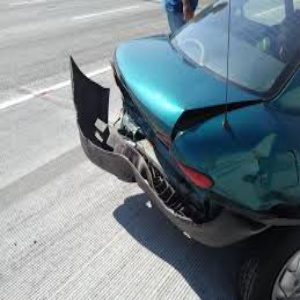bumper: (69, 54, 258, 250)
